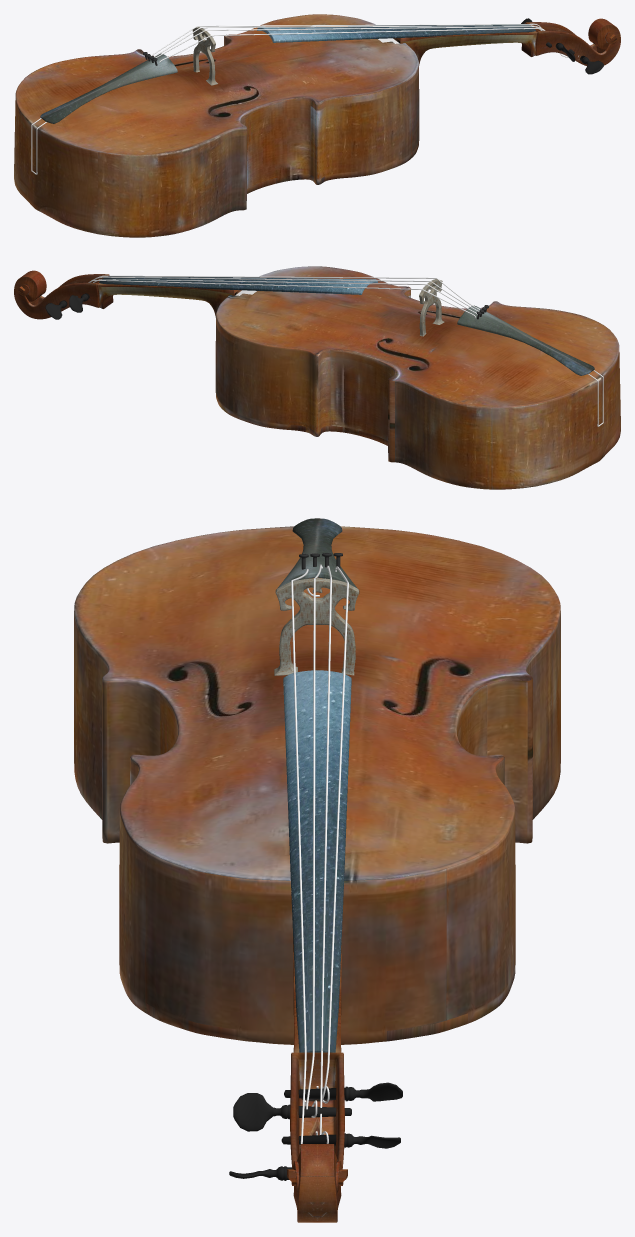
Rendered from obj_cello_a1e5e2.glb.
3 views of the same model, one above another, from view 1: azimuth 30°, elevation 25°; view 2: azimuth 150°, elevation 25°; view 3: azimuth 270°, elevation 25° (orthographic). The views are drawn at different scales.
Parts seen in each view (by area): view 1: obj_cello_a1e5e2; view 2: obj_cello_a1e5e2; view 3: obj_cello_a1e5e2.
Boxes of the visible parts, box(x1,y1,x2,y2) form: obj_cello_a1e5e2: box(14, 14, 620, 237); obj_cello_a1e5e2: box(14, 266, 620, 489); obj_cello_a1e5e2: box(74, 518, 560, 1222).
Bounding box in the file's own units: 2.55 × 0.6 × 0.9221.
Materials: 9 (5 with a texture image).
